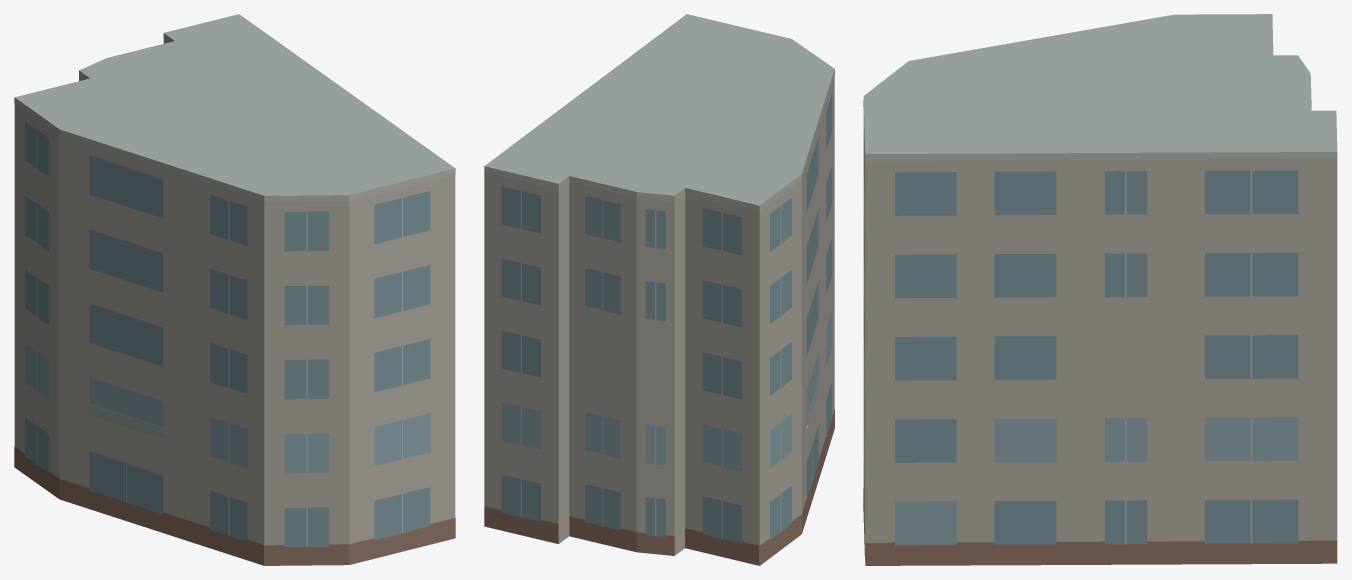
Rendered from survey-upis-32736618.glb.
3 renders of one model, left to right at view 1: azimuth 30°, elevation 25°; view 2: azimuth 150°, elevation 25°; view 3: azimuth 270°, elevation 25°, orthographic. The views are drawn at different scales.
Visible parts, largest first — view 1: survey-upis-32736618.tmp; view 2: survey-upis-32736618.tmp; view 3: survey-upis-32736618.tmp.
Boxes of the visible parts, x1,y1,x2,y2 form: survey-upis-32736618.tmp: [14, 14, 455, 565]; survey-upis-32736618.tmp: [484, 14, 834, 565]; survey-upis-32736618.tmp: [863, 14, 1337, 565].
Bounding box in the file's own units: 10.88 × 14.9 × 15.55.
